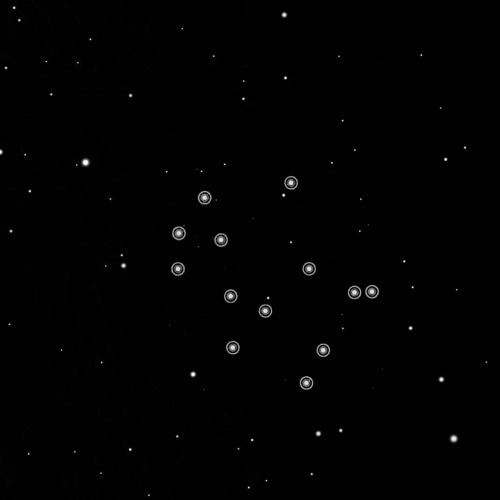gemini: (170, 166, 382, 394)
